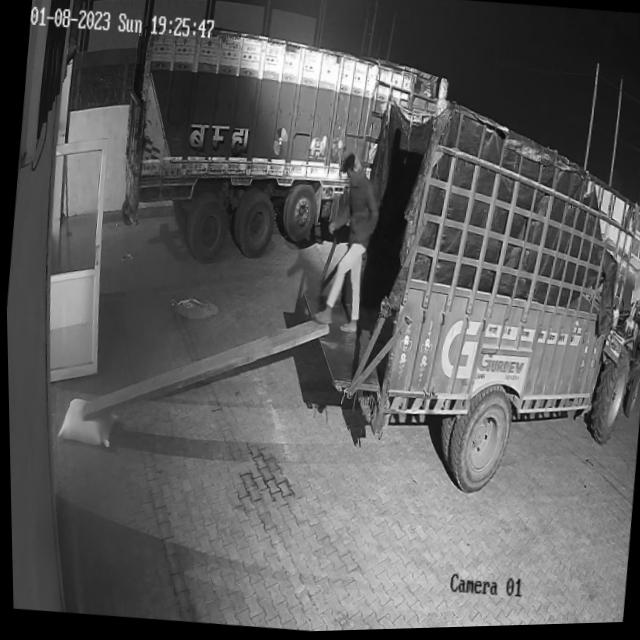sack: (54, 394, 115, 449)
